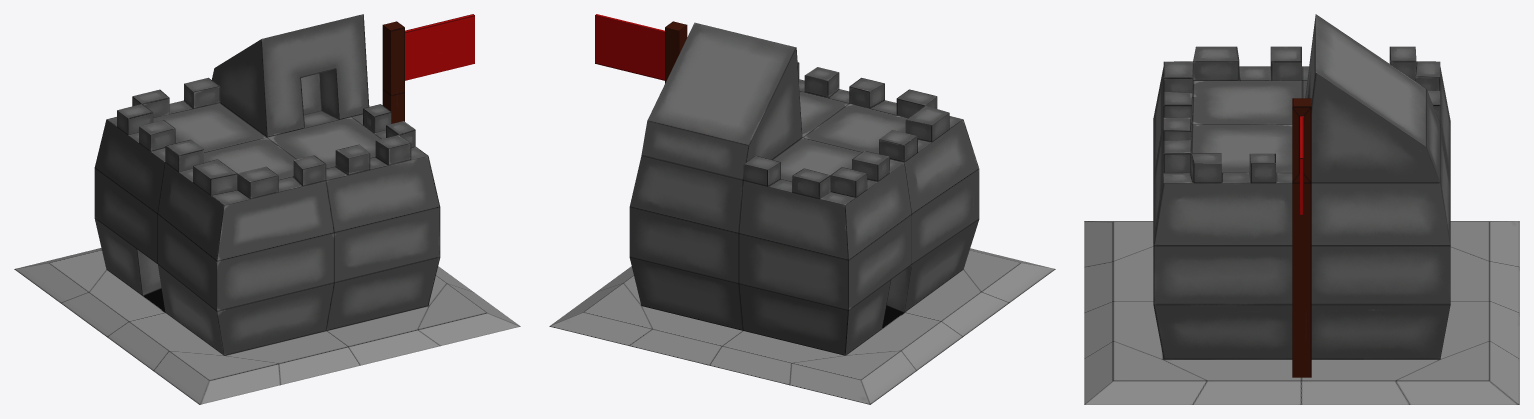
File: barracks.obj
3 renders of one model, left to right at view 1: azimuth 30°, elevation 25°; view 2: azimuth 150°, elevation 25°; view 3: azimuth 270°, elevation 25°, orthographic. The views are drawn at different scales.
Parts seen in each view (by area): view 1: Cube_Cube.001; view 2: Cube_Cube.001; view 3: Cube_Cube.001.
Boxes of the visible parts, x1,y1,x2,y2 form: Cube_Cube.001: [14, 14, 520, 404]; Cube_Cube.001: [549, 14, 1055, 404]; Cube_Cube.001: [1084, 14, 1519, 404].
Size of the model in its own units: 3.48 by 2.41 by 3.05.
Materials: 1 (1 with a texture image).
